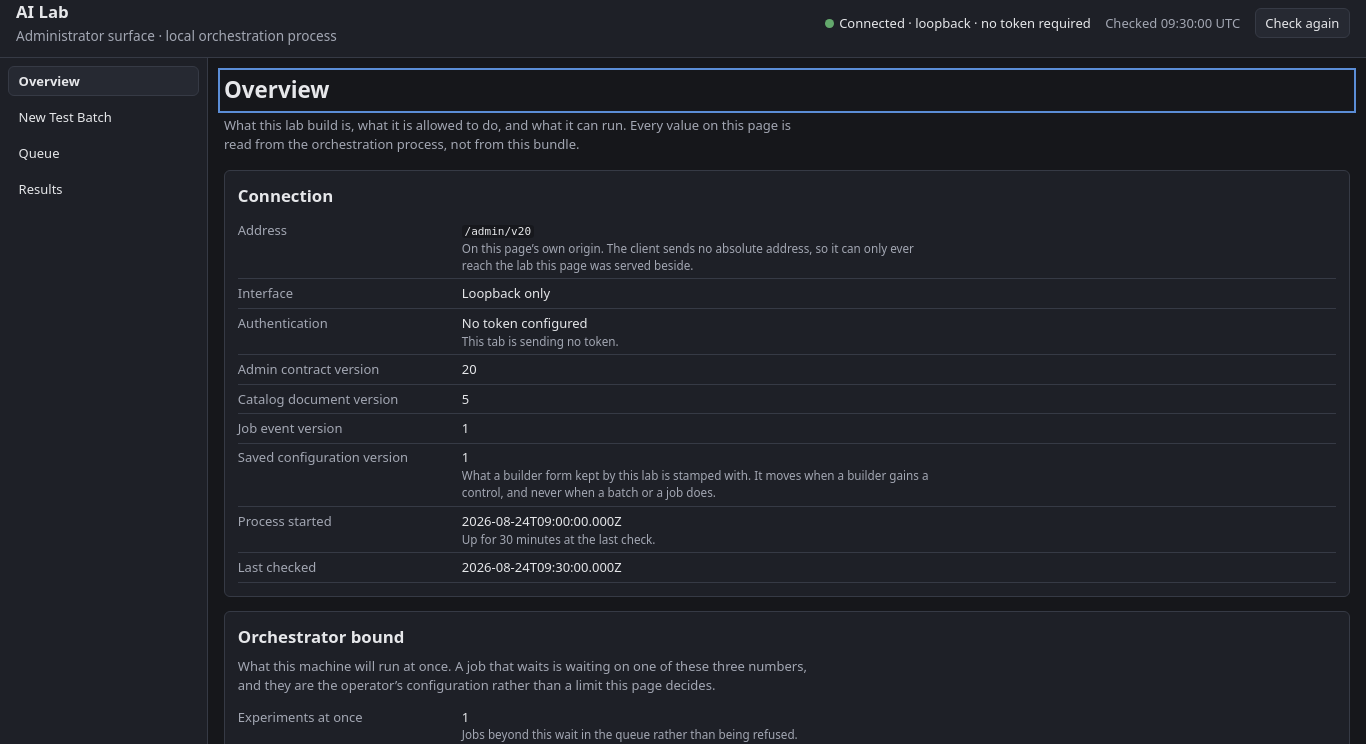
the content the form offers › is the lab’s own precons and pilots, not a list in this bundle
Check: the heading "Overview" is shown, box [224,74,330,105]
Click the button "New Test Batch": (104, 117) [8,102,199,132]
(page scrolled)
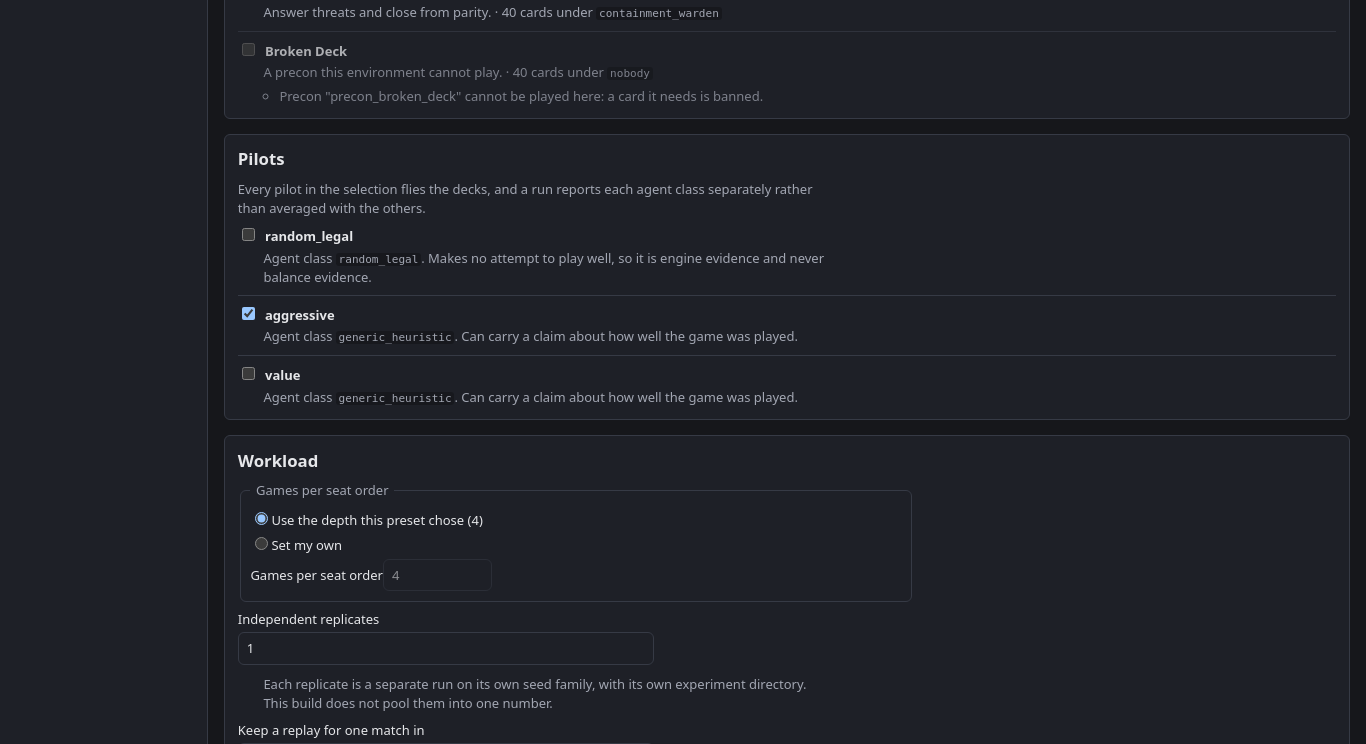
Check: the text "Broken Deck" is shown, box [265,42,347,61]
Check: the checkbox labelled "random_legal" is shown, box [242,228,255,241]
Check: the checkbox labelled "aggressive" is shown, box [242,307,255,320]
